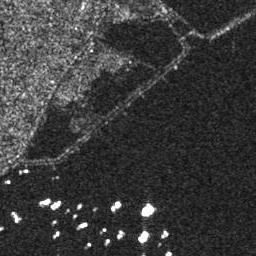ship: (141, 203, 157, 219), (137, 230, 150, 244), (10, 211, 22, 224), (111, 200, 122, 214), (50, 199, 62, 211), (38, 198, 52, 208), (160, 227, 170, 239), (76, 221, 87, 229), (18, 169, 30, 175), (116, 231, 125, 239), (53, 231, 60, 240), (76, 203, 84, 210), (4, 179, 11, 185), (105, 238, 110, 246)
